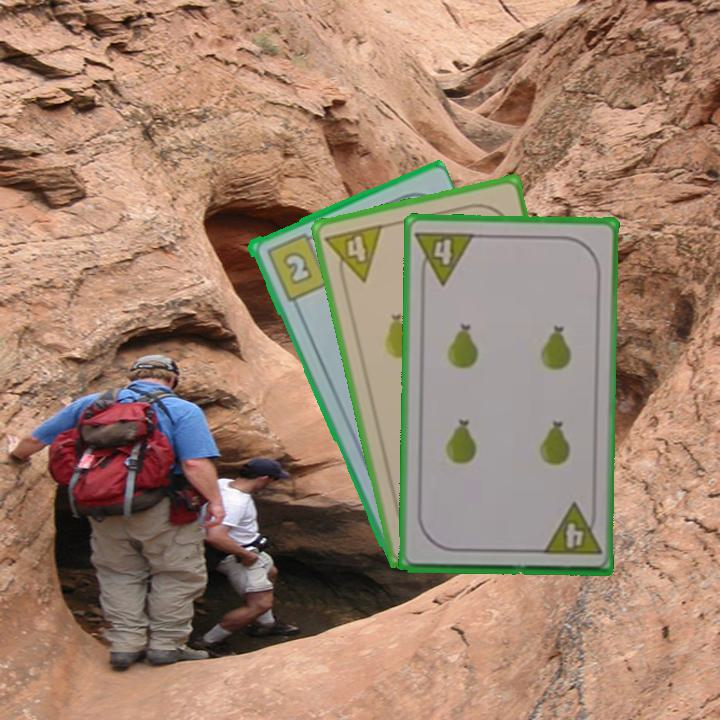2b: (262, 229, 331, 304)
4p: (322, 220, 386, 289), (412, 227, 477, 287), (539, 501, 604, 558)
